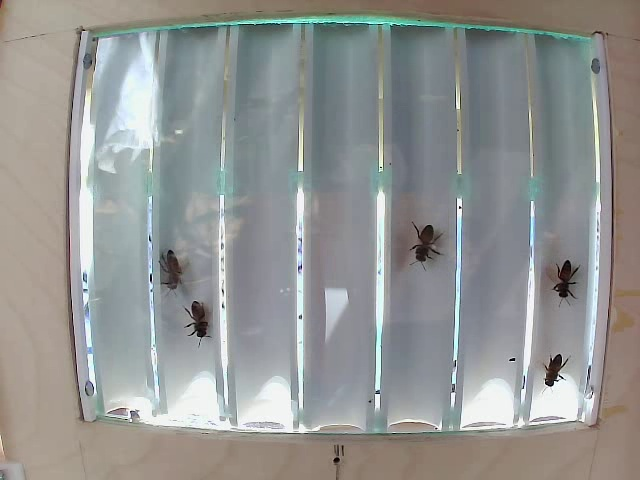bee: (180, 301, 224, 351), (411, 214, 440, 274), (161, 244, 194, 289), (553, 250, 575, 302), (541, 339, 557, 383)
